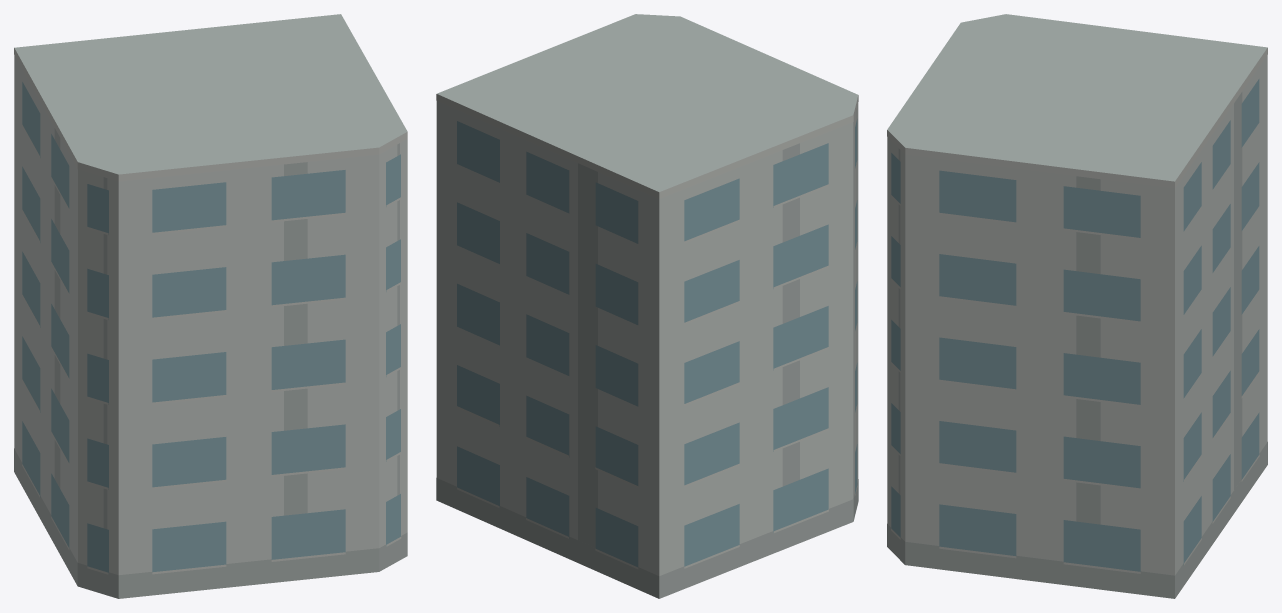
File: survey-upis-33015634.glb
3 views of the same model, side by side, from view 1: azimuth 30°, elevation 25°; view 2: azimuth 150°, elevation 25°; view 3: azimuth 270°, elevation 25° (orthographic). The views are drawn at different scales.
Visible parts, largest first — view 1: survey-upis-33015634.tmp; view 2: survey-upis-33015634.tmp; view 3: survey-upis-33015634.tmp.
Boxes of the visible parts, box(x1,y1,x2,y2) form: survey-upis-33015634.tmp: box(14, 14, 407, 598); survey-upis-33015634.tmp: box(436, 14, 858, 598); survey-upis-33015634.tmp: box(887, 14, 1267, 598).
Bounding box in the file's own units: 12.54 × 14.55 × 12.04.
